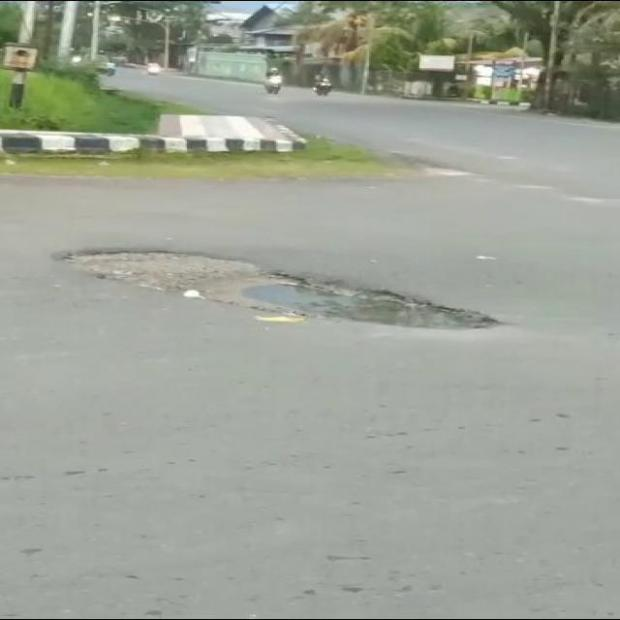lubang: (62, 250, 497, 327)
